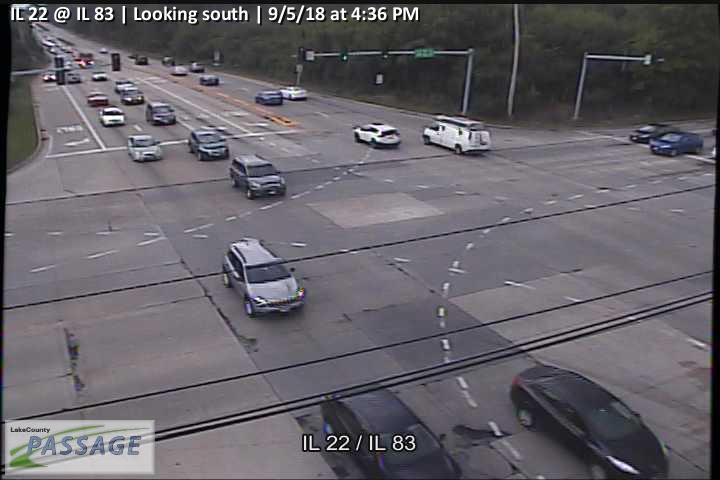SUV: (228, 152, 288, 199), (145, 101, 176, 125)
Sedan: (509, 364, 671, 480), (321, 386, 463, 480), (222, 235, 307, 317), (185, 126, 229, 160), (352, 121, 402, 148), (648, 131, 704, 155), (628, 123, 681, 144), (127, 134, 164, 162), (98, 106, 125, 127), (254, 89, 283, 105), (280, 84, 310, 99), (120, 87, 145, 104)
Truck: (420, 114, 495, 154)
